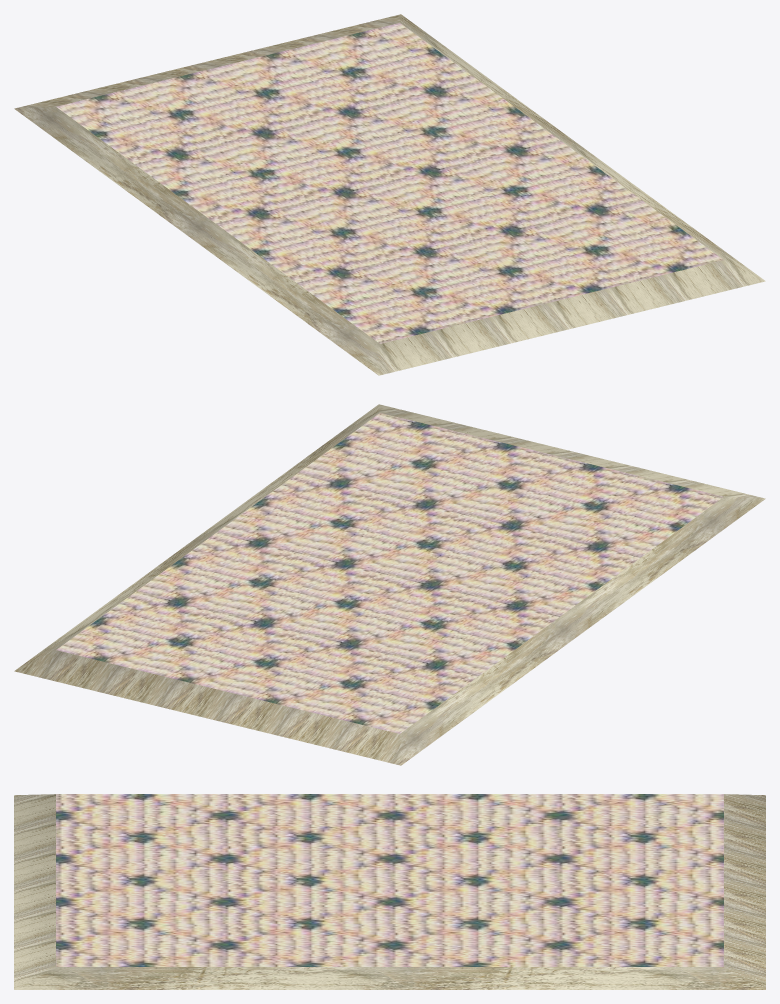
File: objects_rug_1.glb
3 views of the same model, one above another, from view 1: azimuth 30°, elevation 25°; view 2: azimuth 150°, elevation 25°; view 3: azimuth 270°, elevation 25° (orthographic). The views are drawn at different scales.
Parts seen in each view (by area): view 1: rug_1; view 2: rug_1; view 3: rug_1.
Boxes of the visible parts, box(x1,y1,x2,y2) form: rug_1: box(14, 14, 765, 375); rug_1: box(14, 404, 765, 765); rug_1: box(14, 794, 765, 989).
Size of the model in its own units: 3.25 by 0.0928 by 5.3.
Materials: 2 (2 with a texture image).
